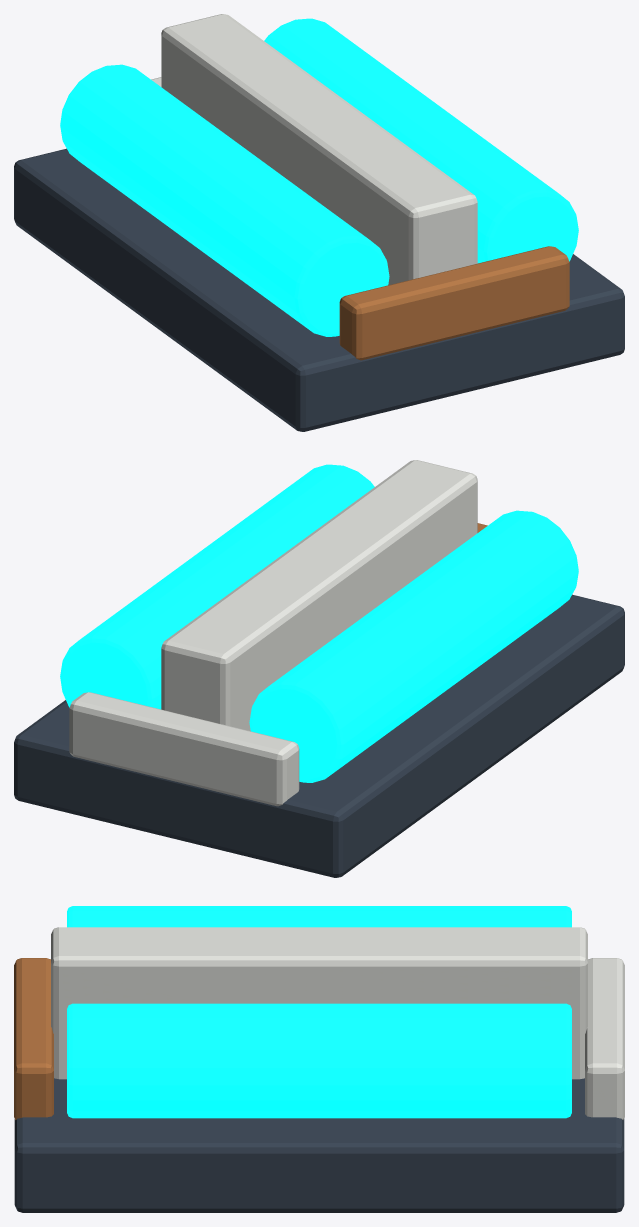
The model's file is RelayHeatExchangerModel.fbx.
3 renders of one model, top to bottom at view 1: azimuth 30°, elevation 25°; view 2: azimuth 150°, elevation 25°; view 3: azimuth 270°, elevation 25°, orthographic. The views are drawn at different scales.
Parts seen in each view (by area): view 1: Exchanger armored plinth, West coolant coil, Exchanger ceramic spine, East coolant coil, South copper manifold; view 2: Exchanger armored plinth, West coolant coil, Exchanger ceramic spine, East coolant coil, North ceramic manifold; view 3: Exchanger armored plinth, East coolant coil, Exchanger ceramic spine, West coolant coil, North ceramic manifold, South copper manifold.
Part boxes in pixels (box(x1,y1,x2,y2)): Exchanger armored plinth: box(14, 148, 624, 431); West coolant coil: box(60, 64, 389, 336); Exchanger ceramic spine: box(161, 14, 477, 285); East coolant coil: box(264, 18, 578, 263); South copper manifold: box(339, 246, 569, 360); Exchanger armored plinth: box(14, 594, 624, 877); West coolant coil: box(249, 510, 578, 782); Exchanger ceramic spine: box(161, 460, 477, 731); East coolant coil: box(60, 464, 374, 709); North ceramic manifold: box(69, 692, 299, 806); Exchanger armored plinth: box(14, 1078, 624, 1212); East coolant coil: box(67, 1003, 571, 1118); Exchanger ceramic spine: box(51, 927, 587, 1079); West coolant coil: box(67, 906, 571, 927); North ceramic manifold: box(585, 958, 624, 1119); South copper manifold: box(14, 958, 53, 1119).
Size of the model in its own units: 2.5 by 1.31 by 3.81.
